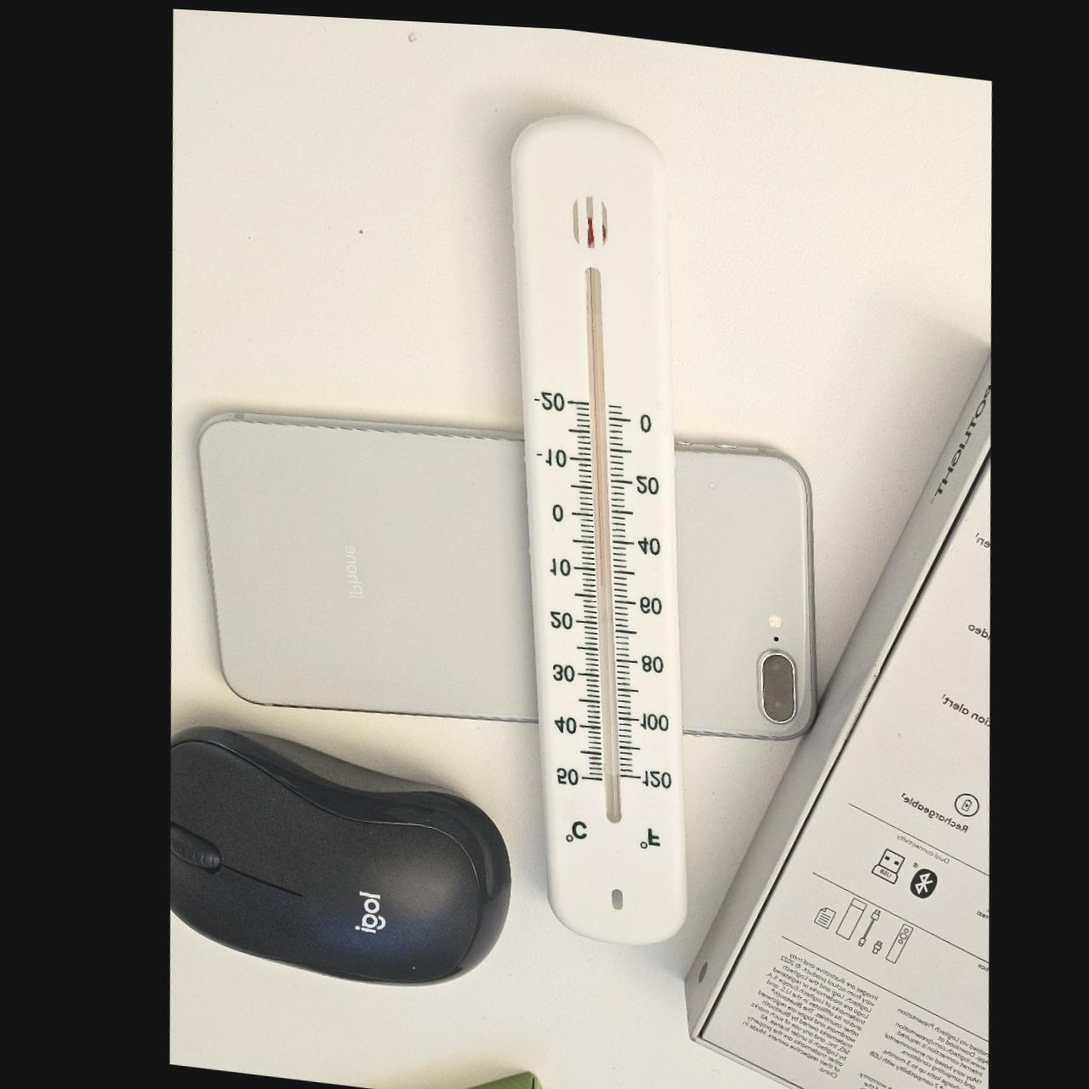thermometer: (450, 99, 749, 956)
